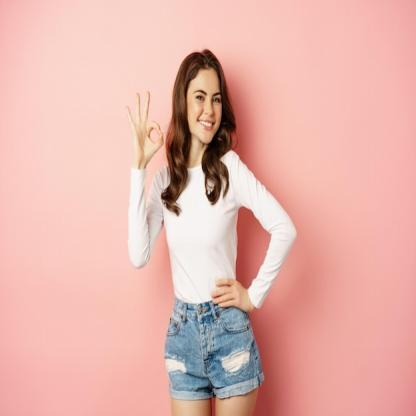ok: (121, 88, 168, 164)
